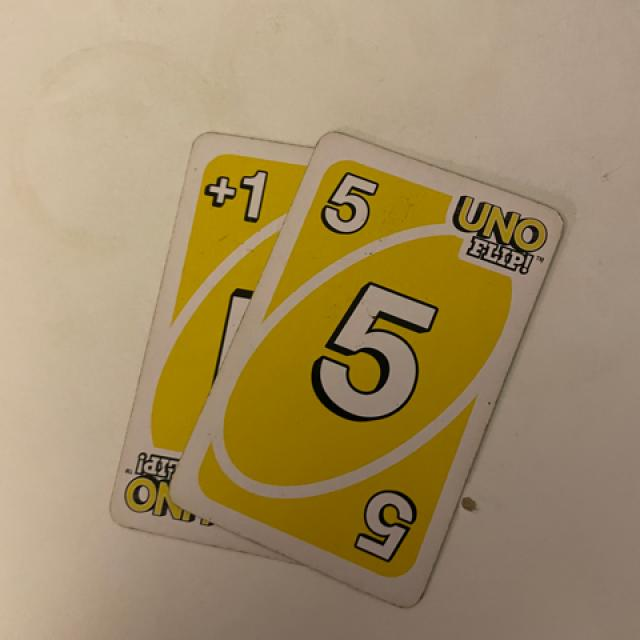lyellow-5: (315, 149, 389, 242)
